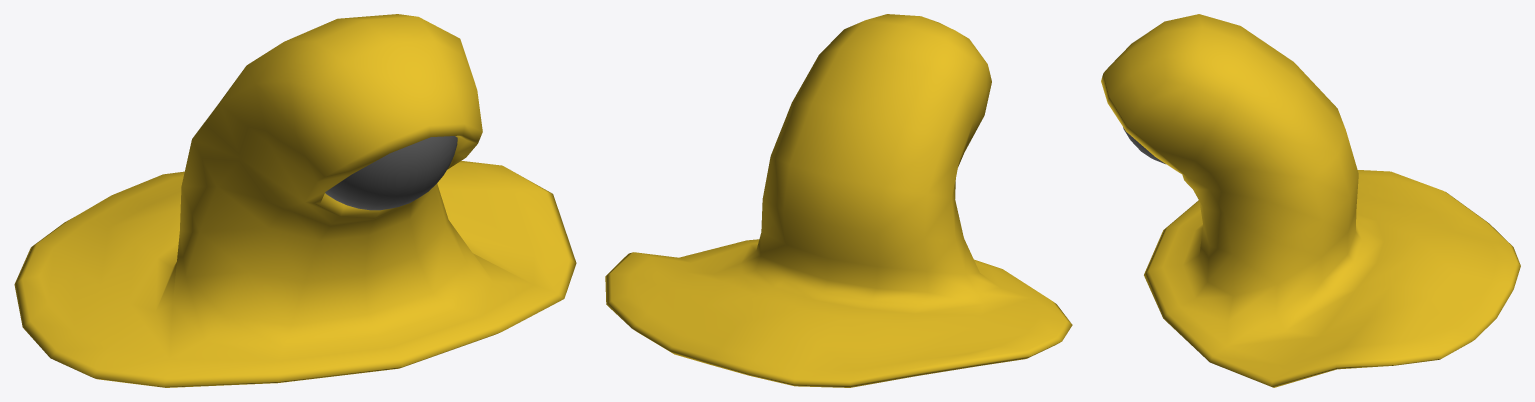
Rendered from Child.FBX.
3 views of the same model, side by side, from view 1: azimuth 30°, elevation 25°; view 2: azimuth 150°, elevation 25°; view 3: azimuth 270°, elevation 25° (orthographic). The views are drawn at different scales.
Visible parts, largest first — view 1: Plane008; view 2: Plane008; view 3: Plane008.
Boxes of the visible parts, <box> form: Plane008: <box>14,14,576,387</box>; Plane008: <box>605,14,1072,387</box>; Plane008: <box>1101,14,1520,387</box>.
Size of the model in its own units: 52.19 by 32.1 by 45.58.
